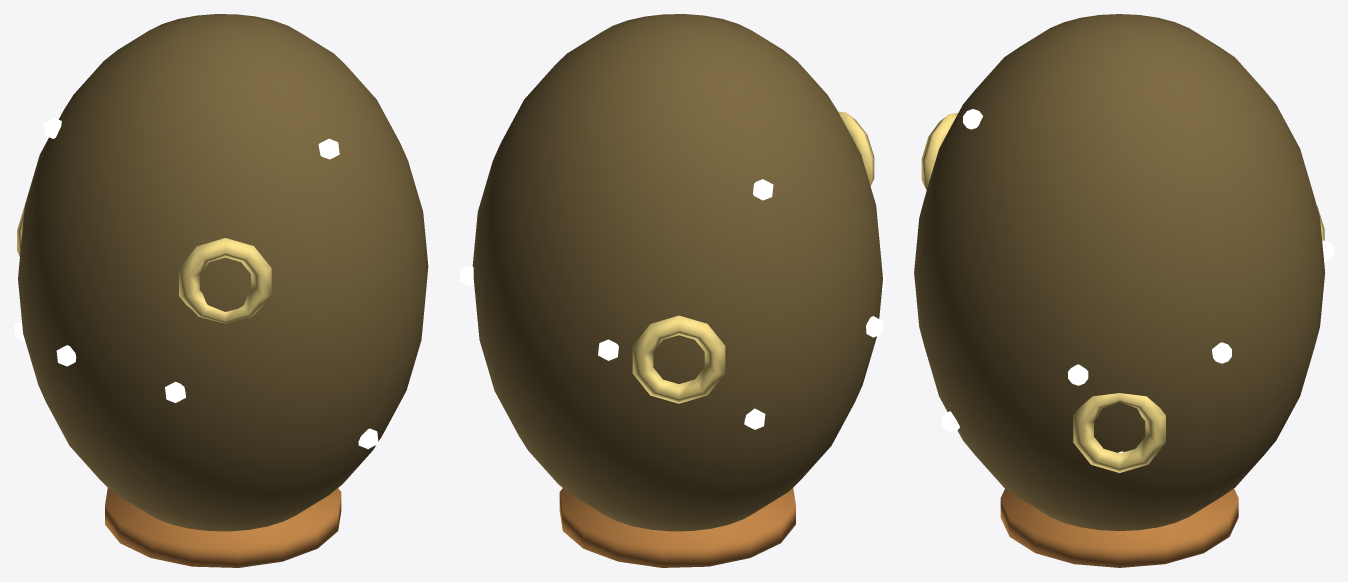
The model's file is egg_volcano_00.glb.
The picture shows the model from 3 angles, left to right: view 1: azimuth 30°, elevation 25°; view 2: azimuth 150°, elevation 25°; view 3: azimuth 270°, elevation 25°; orthographic projection.
Parts seen in each view (by area): view 1: ball; view 2: ball; view 3: ball.
Part boxes in pixels (bbox=[...]): ball: bbox=[14, 14, 430, 567]; ball: bbox=[459, 14, 885, 567]; ball: bbox=[914, 14, 1333, 567].
Bounding box in the file's own units: 0.7896 × 1 × 0.7762.
